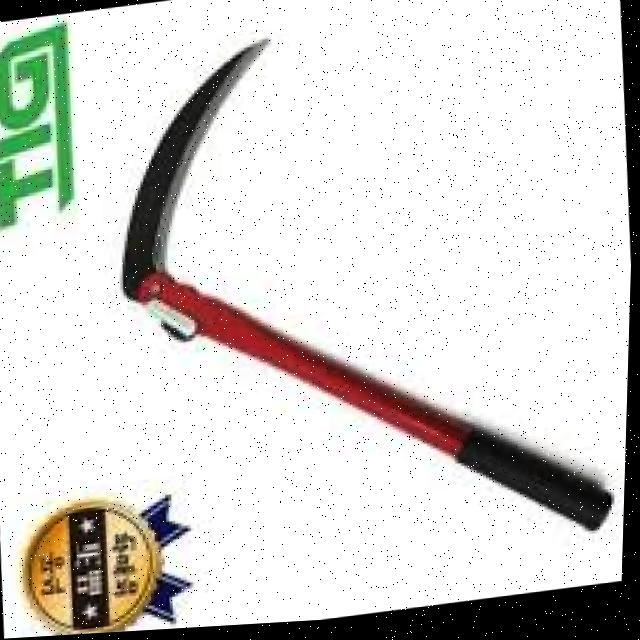sickle: (69, 0, 639, 595)
